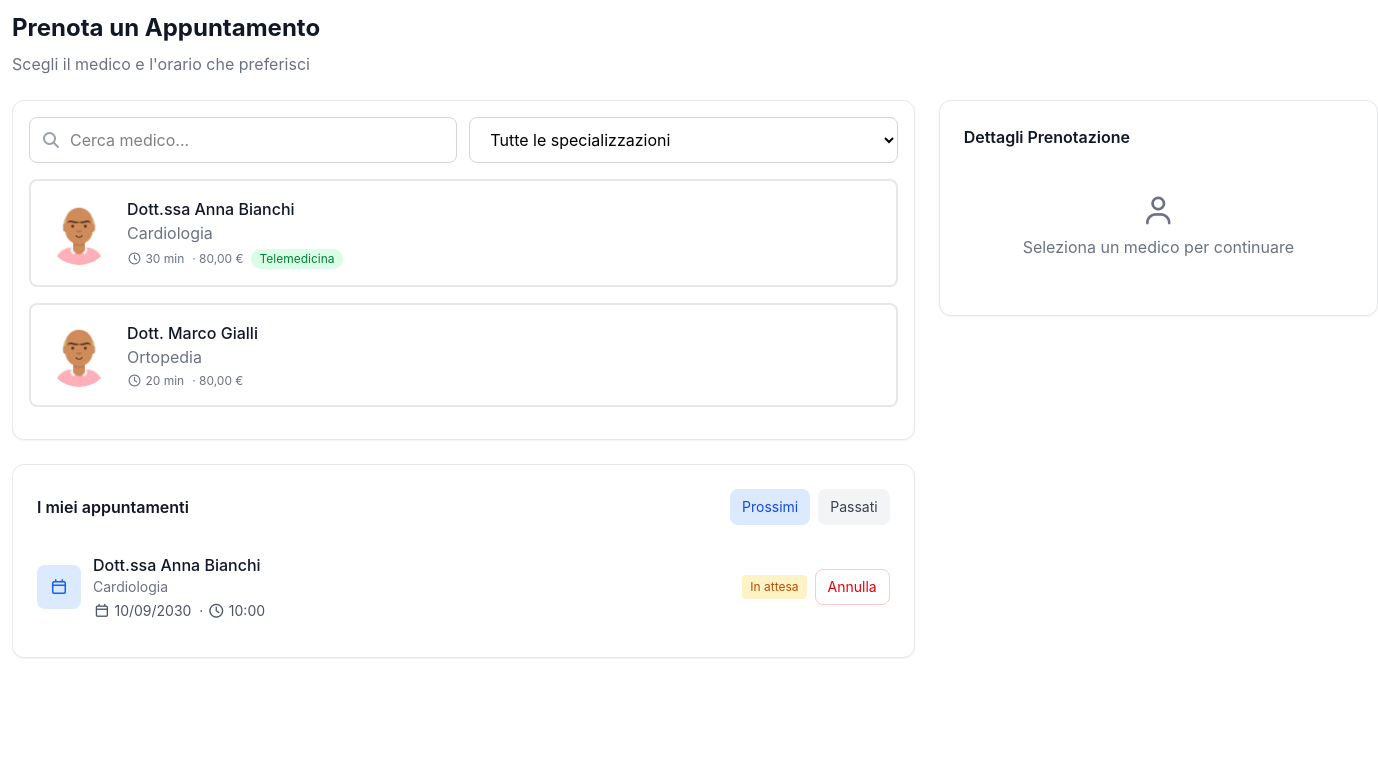
Prenotazione visite (paziente) › gli slot occupati non sono cliccabili
The width and height of the screenshot is (1378, 773).
Click the button that starts with "Dott.ssa Anna Bianchi" at (79, 233), box [29,179,898,287]
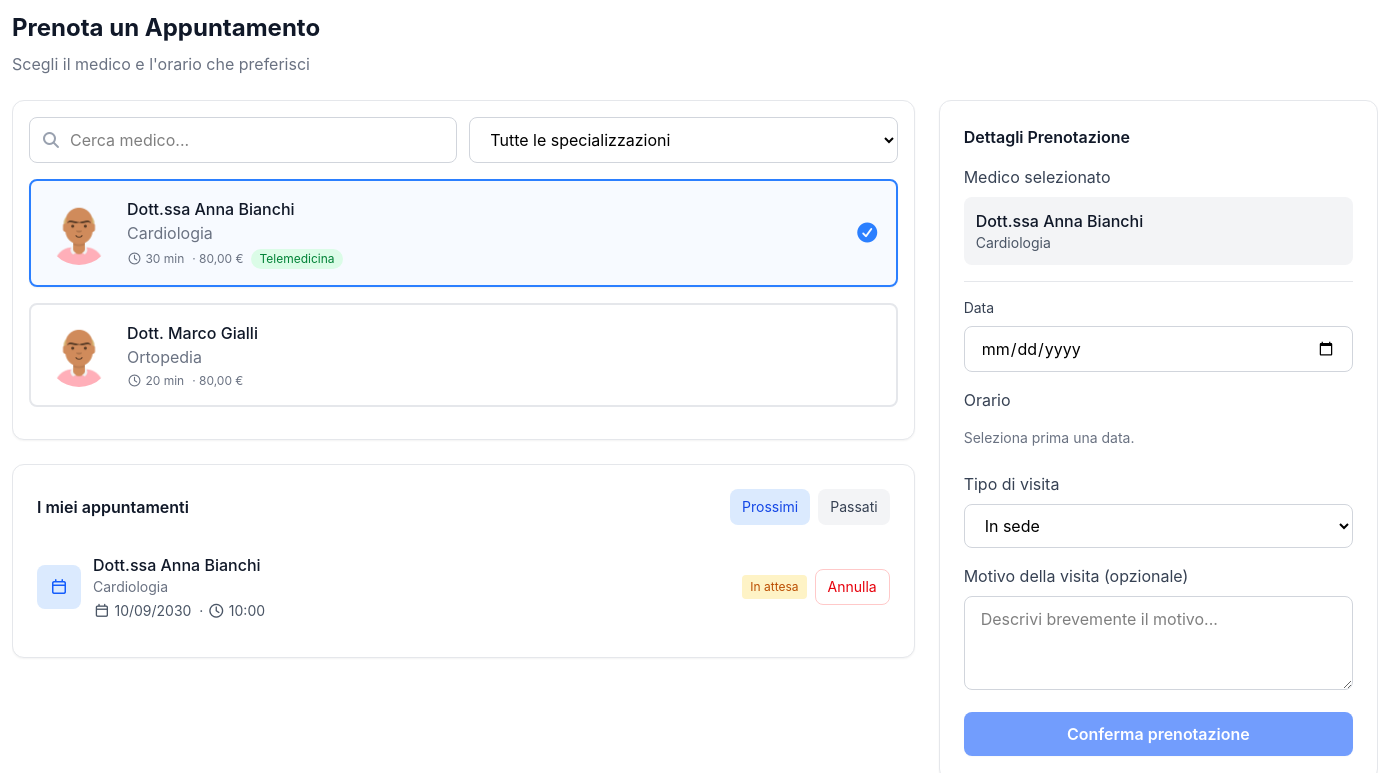
Type "2030-09-10" into the date field with id "booking-date" at (1158, 349), box [964,326,1353,372]
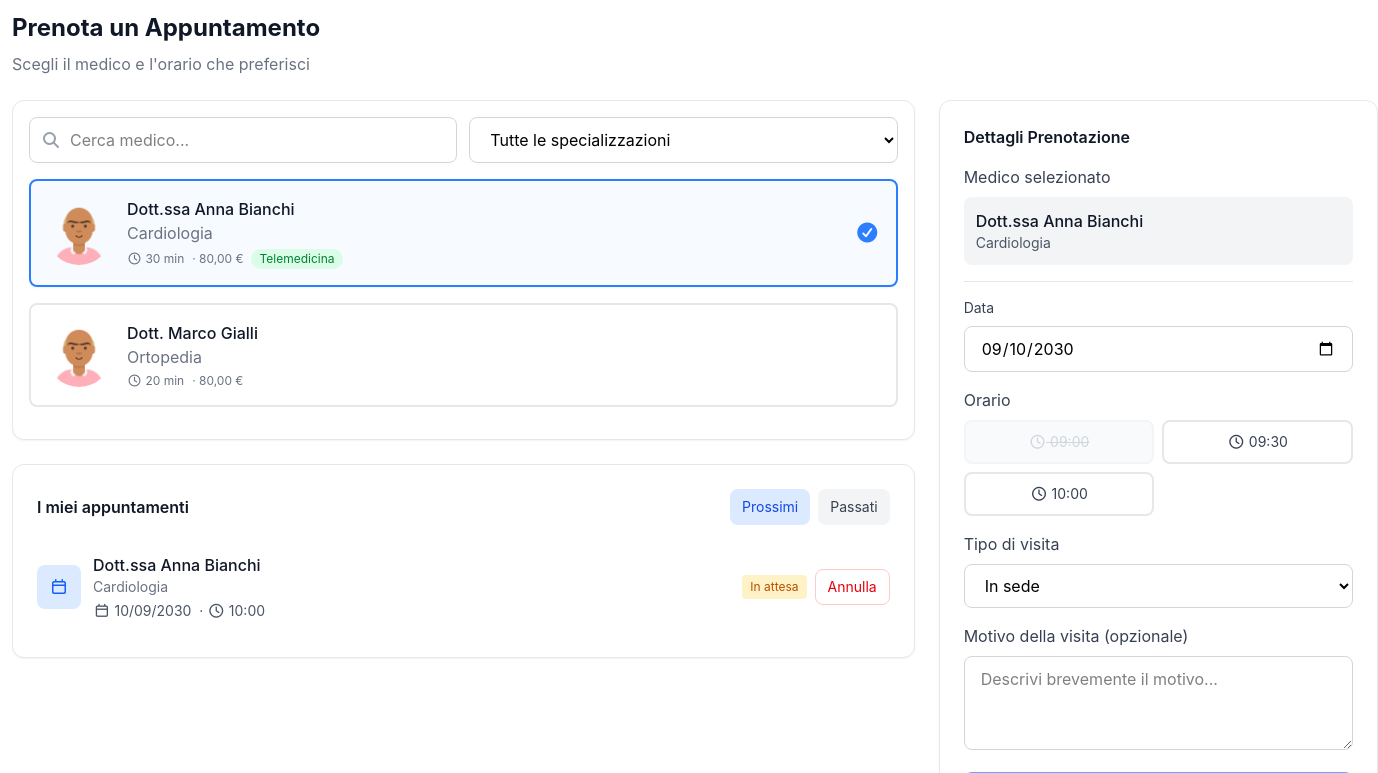
Expected: the button "09:00" is disabled, [964,420,1154,464]
Expected: the button "09:30" is enabled, [1162,420,1353,464]
